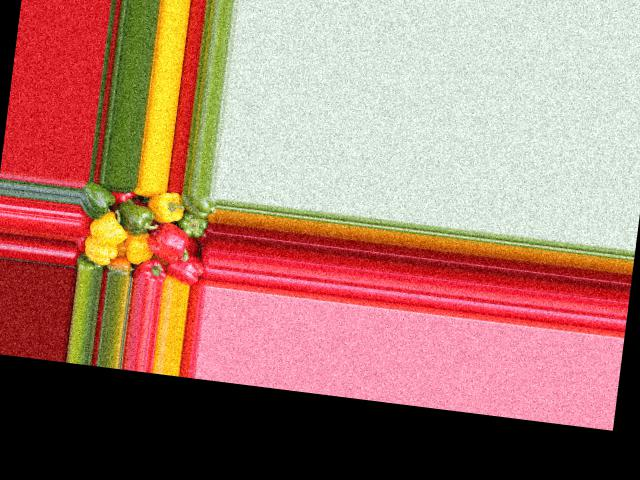bell_pepper: (76, 255, 108, 275)
